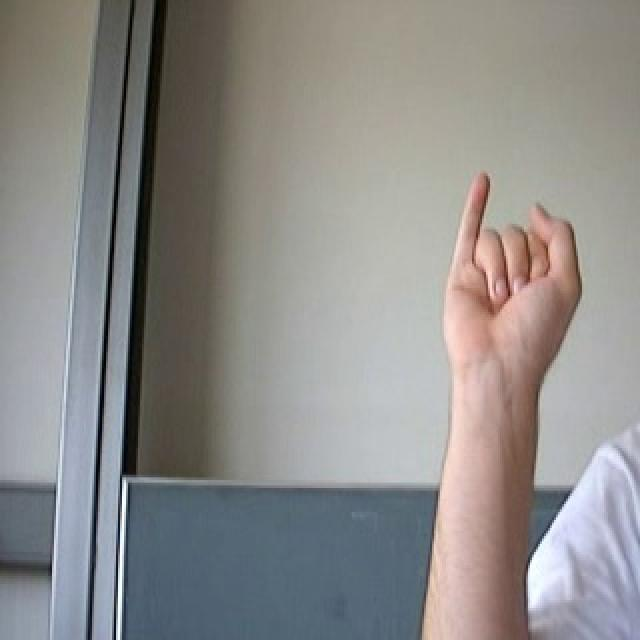I: (430, 163, 591, 388)
